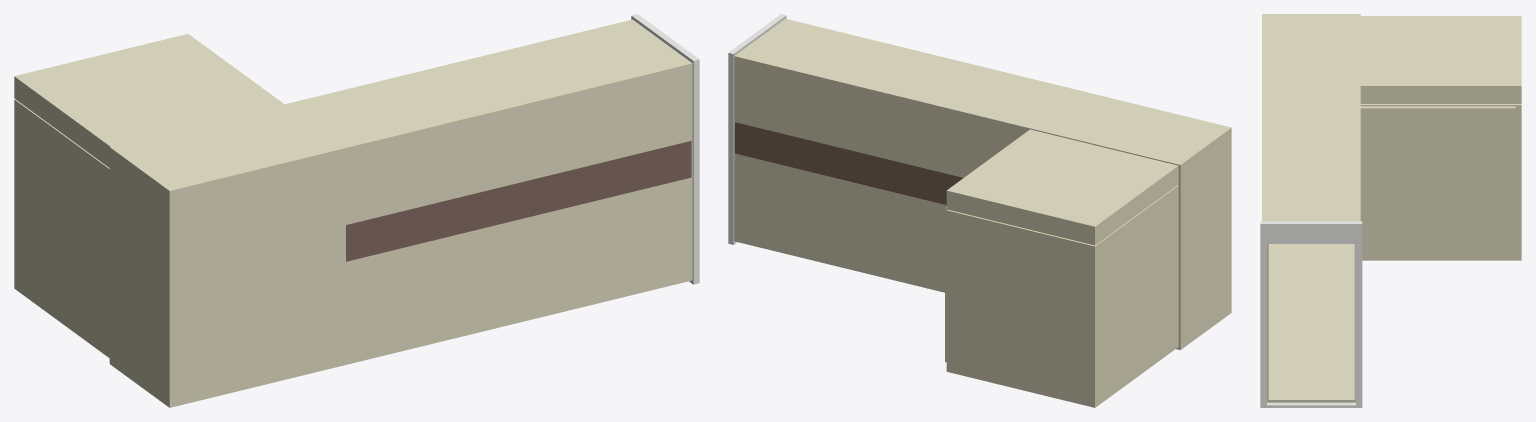
Rendered from Toilet1.fbx.
3 renders of one model, left to right at view 1: azimuth 30°, elevation 25°; view 2: azimuth 150°, elevation 25°; view 3: azimuth 270°, elevation 25°, orthographic. The views are drawn at different scales.
Visible parts, largest first — view 1: pasted__BlackRoom1; view 2: pasted__BlackRoom1; view 3: pasted__BlackRoom1.
Part boxes in pixels (<box>): pasted__BlackRoom1: <box>14,14,699,407</box>; pasted__BlackRoom1: <box>728,14,1231,407</box>; pasted__BlackRoom1: <box>1260,14,1521,407</box>.
Bounding box in the file's own units: 914 × 369 × 476.
